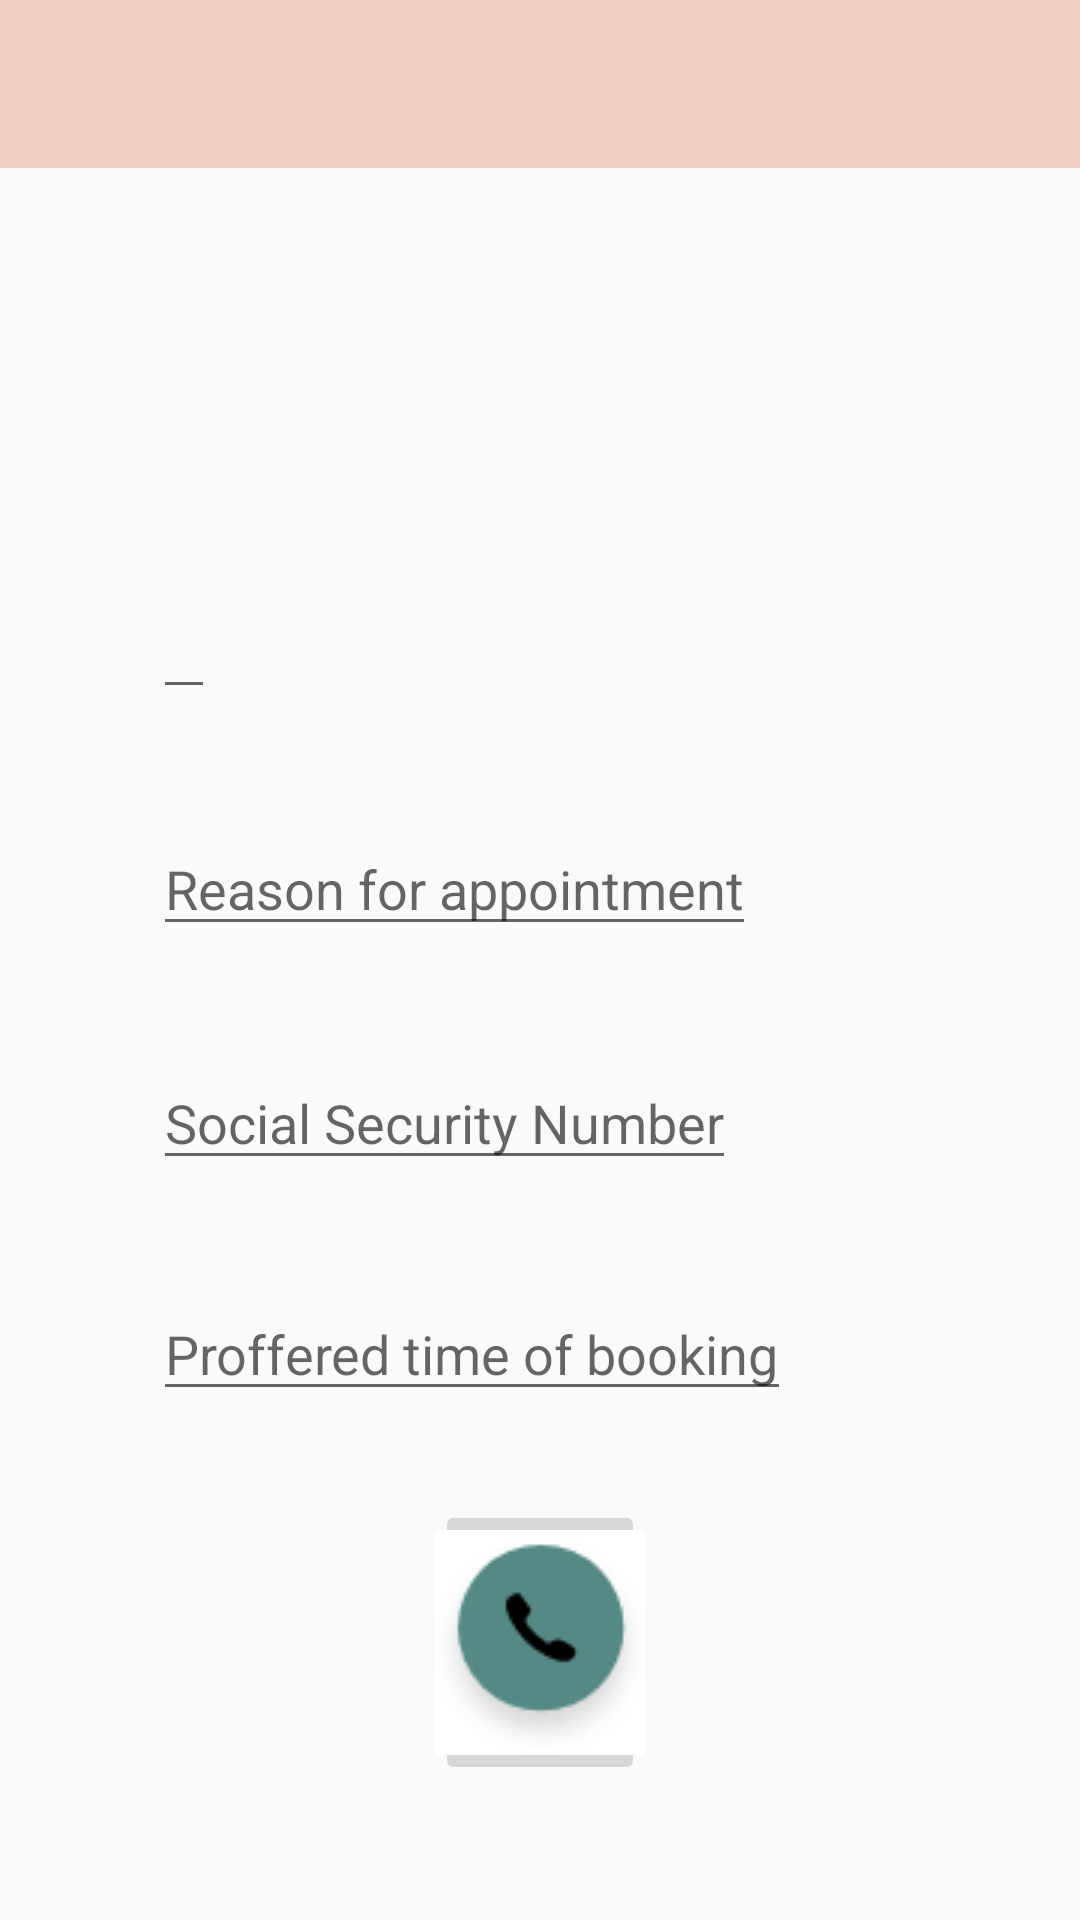

Icons on this 1080 × 1920 Android screen, each with the point to tap as [x,y]:
call: [540,1642]
